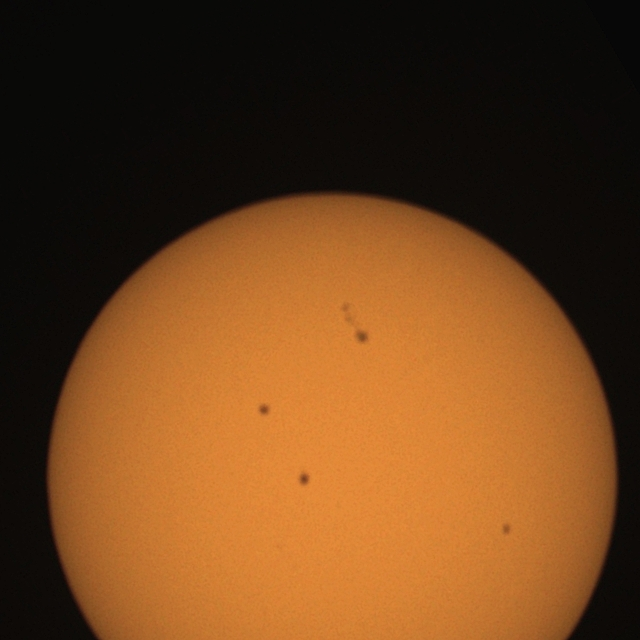sunspot: (340, 301, 371, 348), (297, 470, 312, 488), (256, 402, 272, 418), (500, 522, 512, 537)
